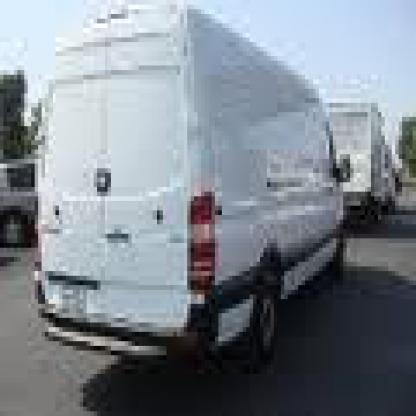Vehicle: (34, 5, 354, 397)
